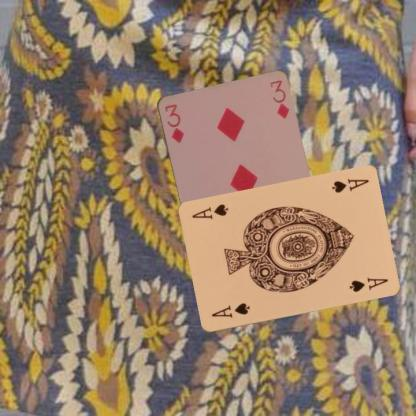3d: (162, 101, 185, 145)
As: (208, 300, 250, 320), (329, 176, 370, 194)
